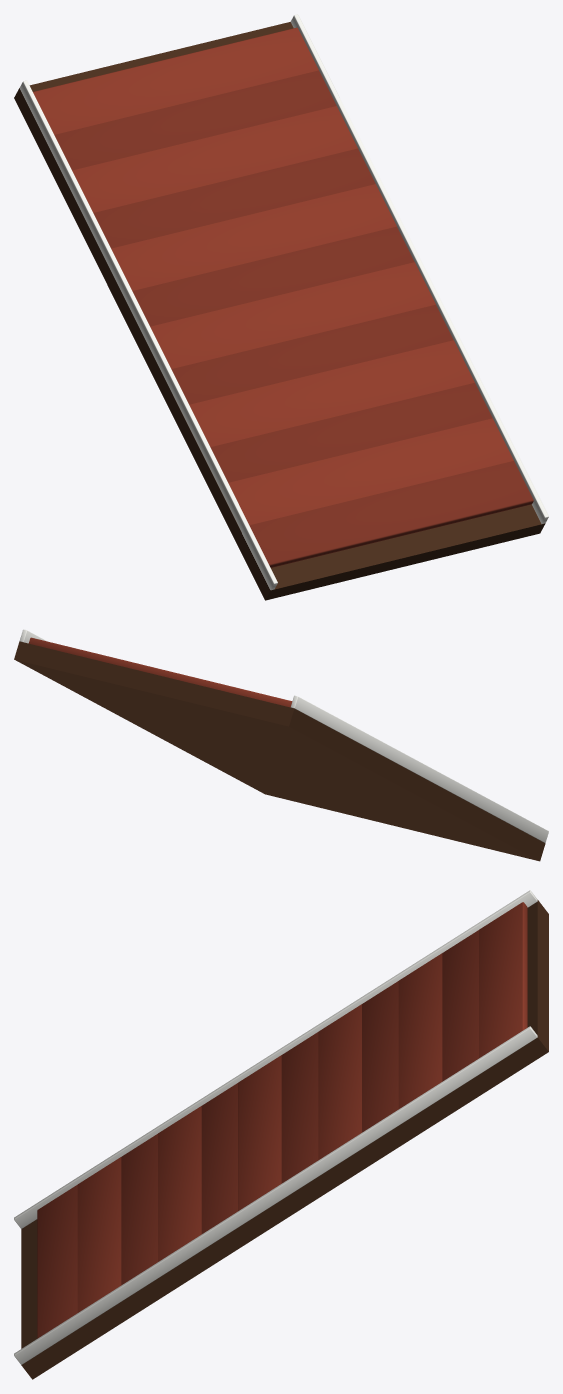
The model's file is Roof_Slope_Tile_2m.fbx.
The picture shows the model from 3 angles, top to bottom: view 1: azimuth 30°, elevation 25°; view 2: azimuth 150°, elevation 25°; view 3: azimuth 270°, elevation 25°; orthographic projection. The views are drawn at different scales.
Visible parts, largest first — view 1: Roof_Slope_Tile_2m; view 2: Roof_Slope_Tile_2m; view 3: Roof_Slope_Tile_2m.
Part boxes in pixels (<box>): Roof_Slope_Tile_2m: <box>14,14,548,600</box>; Roof_Slope_Tile_2m: <box>14,629,548,861</box>; Roof_Slope_Tile_2m: <box>14,890,548,1379</box>.
Size of the model in its own units: 2 by 3.28 by 2.38.
